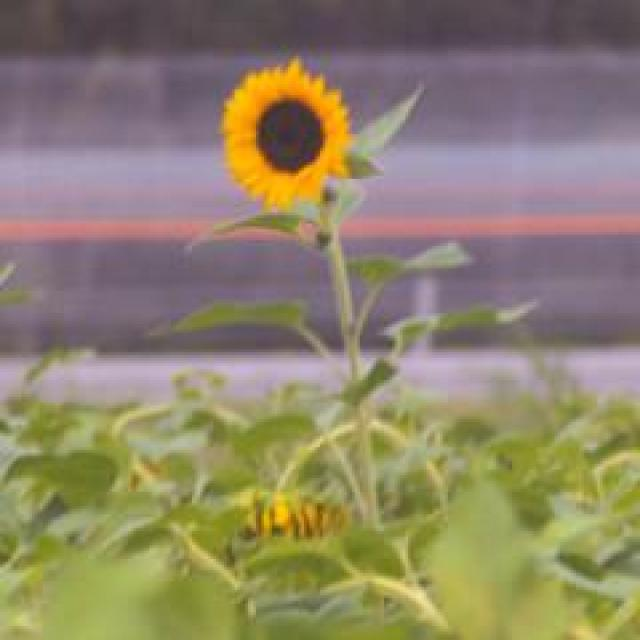sunflower: (213, 52, 360, 220)
